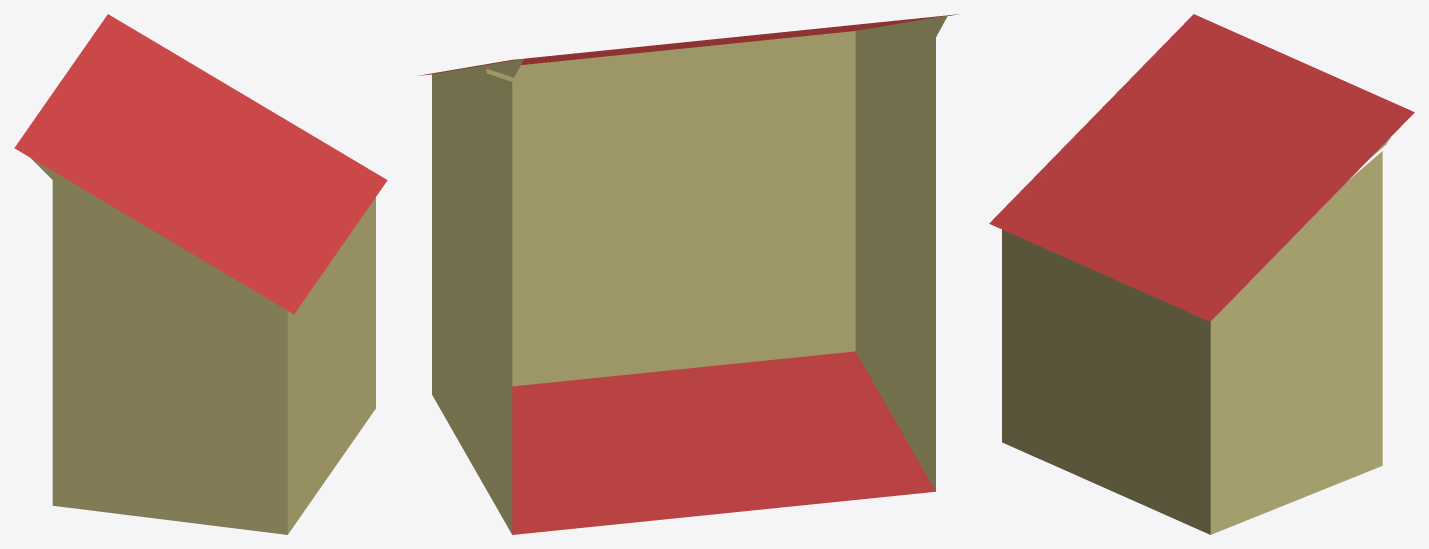
The picture shows the model from 3 angles, left to right: view 1: azimuth 30°, elevation 25°; view 2: azimuth 150°, elevation 25°; view 3: azimuth 270°, elevation 25°; orthographic projection. The views are drawn at different scales.
Size of the model in its own units: 11.73 by 11.69 by 10.47.
